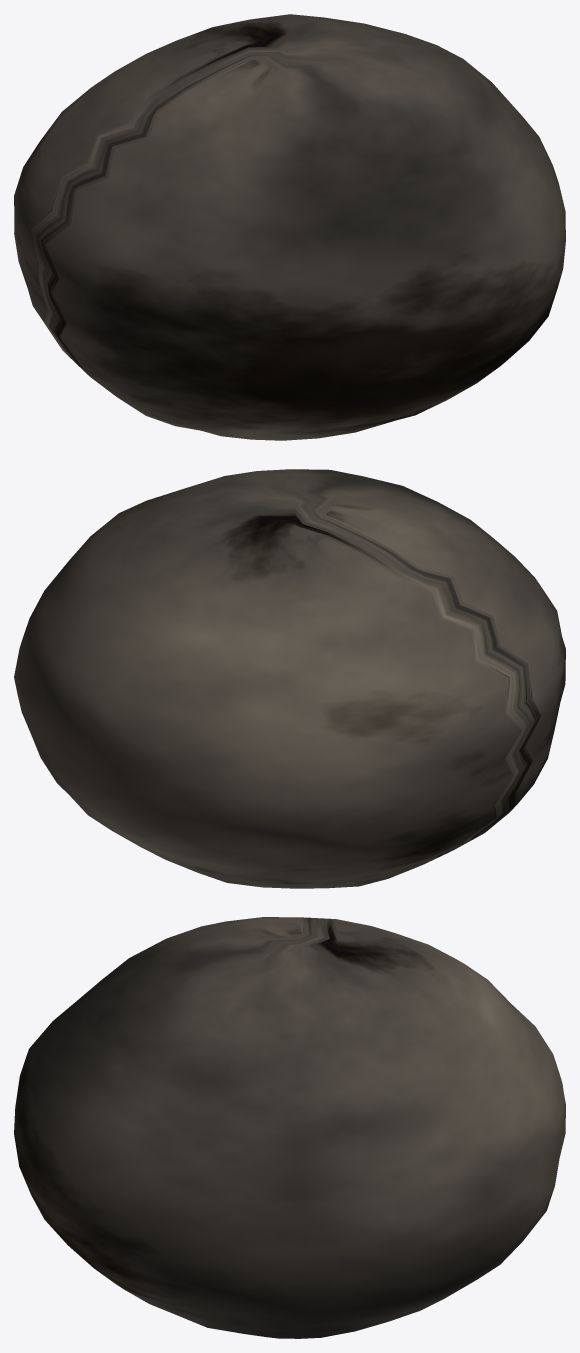
The model's file is rock_a.glb.
The picture shows the model from 3 angles, top to bottom: view 1: azimuth 30°, elevation 25°; view 2: azimuth 150°, elevation 25°; view 3: azimuth 270°, elevation 25°; orthographic projection.
Parts seen in each view (by area): view 1: rock; view 2: rock; view 3: rock.
Part boxes in pixels (bbox=[...]): rock: bbox=[14, 14, 565, 440]; rock: bbox=[14, 469, 565, 888]; rock: bbox=[14, 917, 565, 1338].
Size of the model in its own units: 2.04 by 1.46 by 2.04.
Materials: 1 (1 with a texture image).
